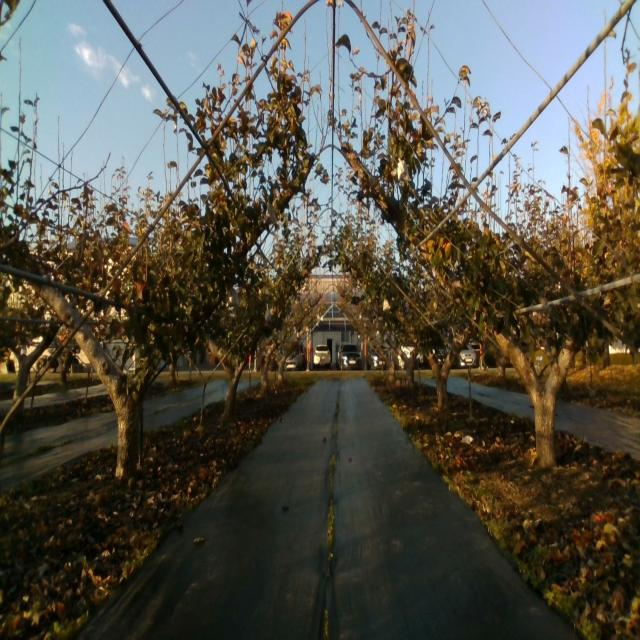pearbags: (396, 157, 412, 183), (226, 288, 239, 308)
